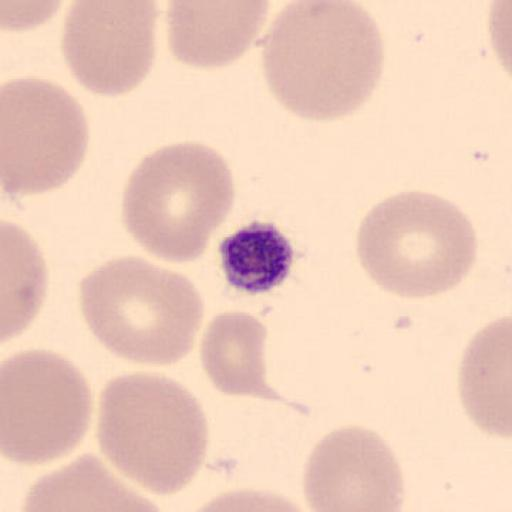Platelet: (218, 219, 300, 297)
RBC: (259, 0, 387, 123), (94, 369, 210, 498), (77, 254, 206, 368), (120, 140, 236, 266), (354, 188, 479, 301), (3, 347, 94, 467), (2, 74, 90, 197), (60, 0, 159, 99), (17, 451, 172, 512), (302, 423, 406, 512), (164, 0, 272, 71), (456, 314, 512, 440), (199, 308, 272, 399), (1, 218, 50, 346), (180, 486, 321, 512), (1, 0, 65, 32), (486, 1, 512, 77)
